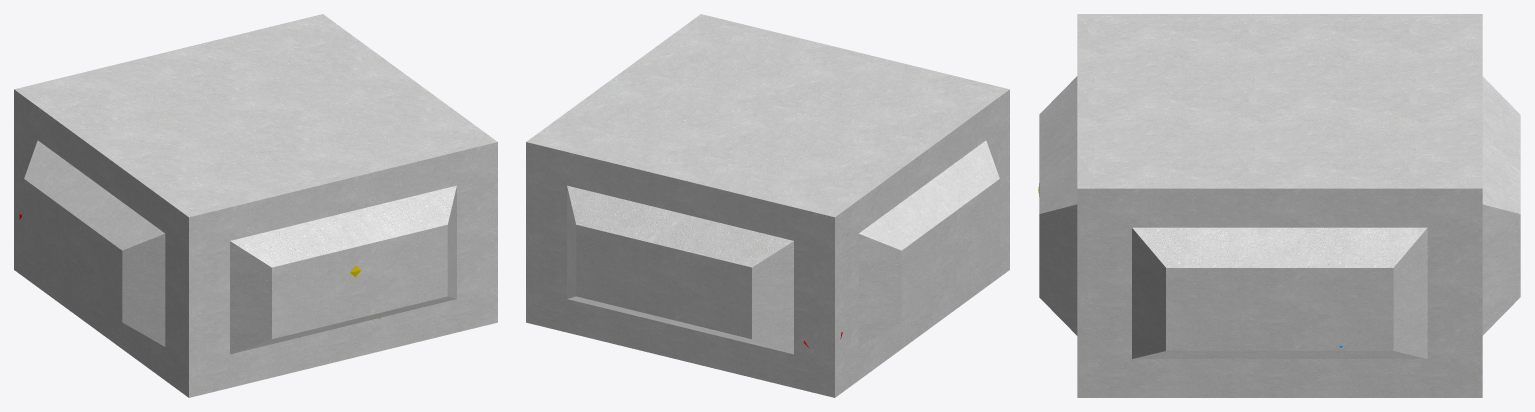
Rendered from koupelna5.obj.
The picture shows the model from 3 angles, left to right: view 1: azimuth 30°, elevation 25°; view 2: azimuth 150°, elevation 25°; view 3: azimuth 270°, elevation 25°; orthographic projection. The views are drawn at different scales.
Parts seen in each view (by area): view 1: Box01_01_-_Default; view 2: Box01_01_-_Default; view 3: Box01_01_-_Default.
Part boxes in pixels (x1,y1,x2,y2): Box01_01_-_Default: (14, 14, 497, 397); Box01_01_-_Default: (526, 14, 1009, 397); Box01_01_-_Default: (1039, 14, 1520, 397).
Size of the model in its own units: 4.04 by 1.91 by 3.97.
4 materials, 4 textured.
